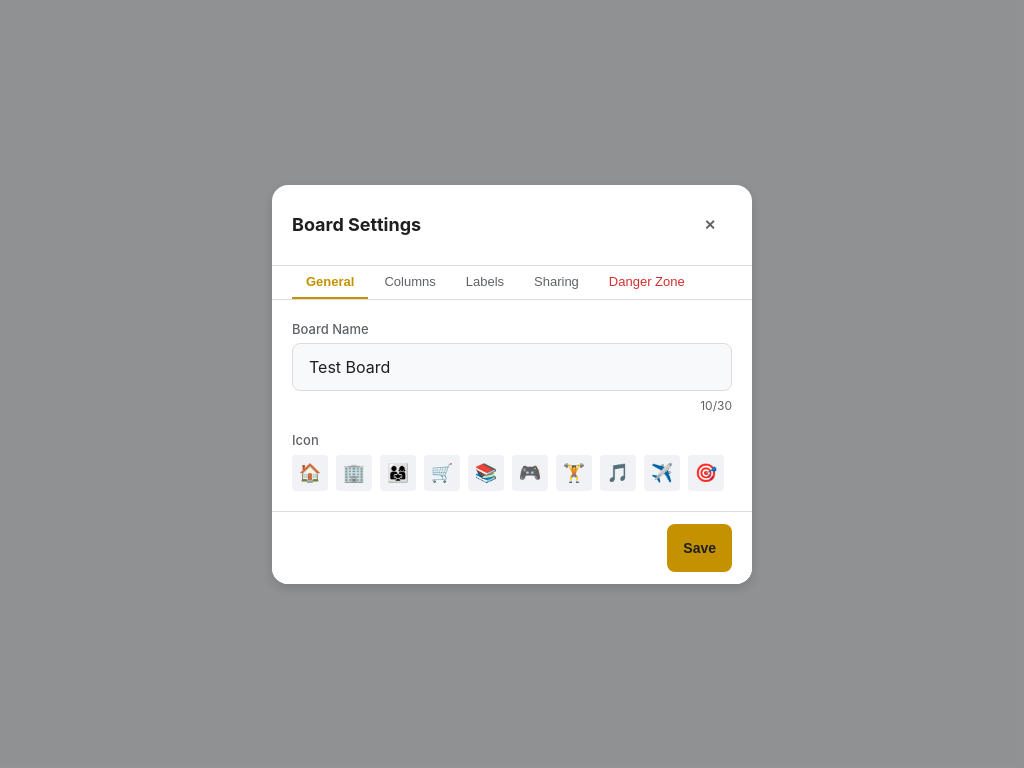
ShareModal sharing behavior (Issue #42, preserved in #138) › AC2: Error handling › shows error for empty email
Click the tab with test id "settings-tab-sharing": (556, 282) left=520, top=266, right=593, bottom=298
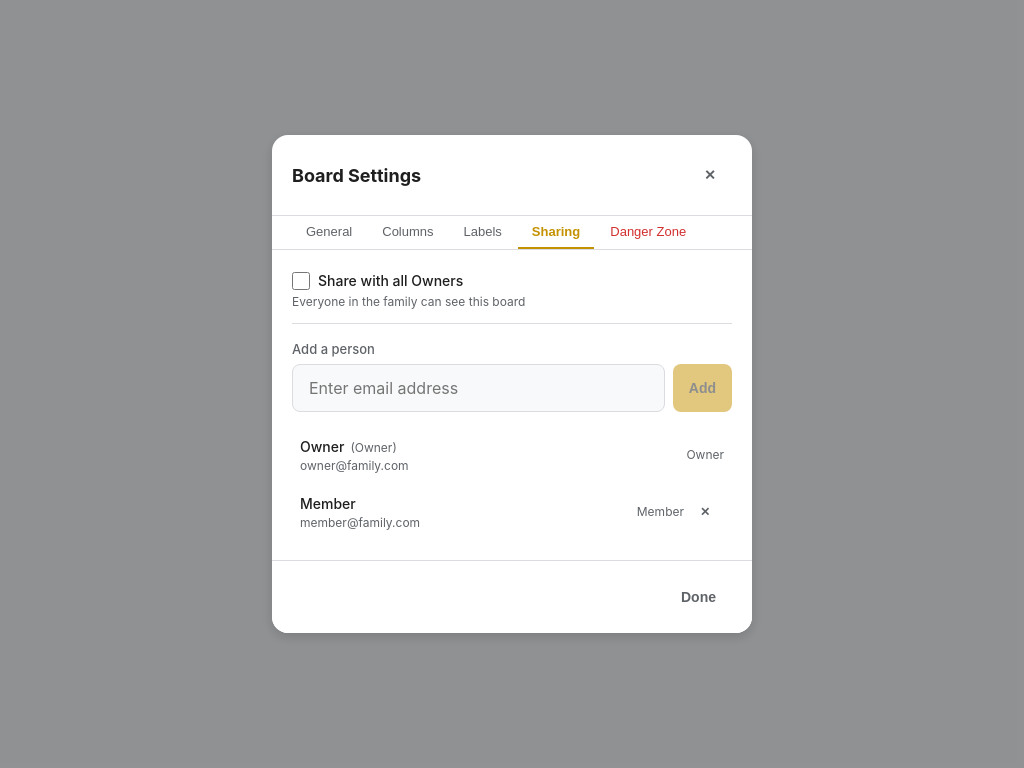
Submit the form, box left=272, top=250, right=752, bottom=633
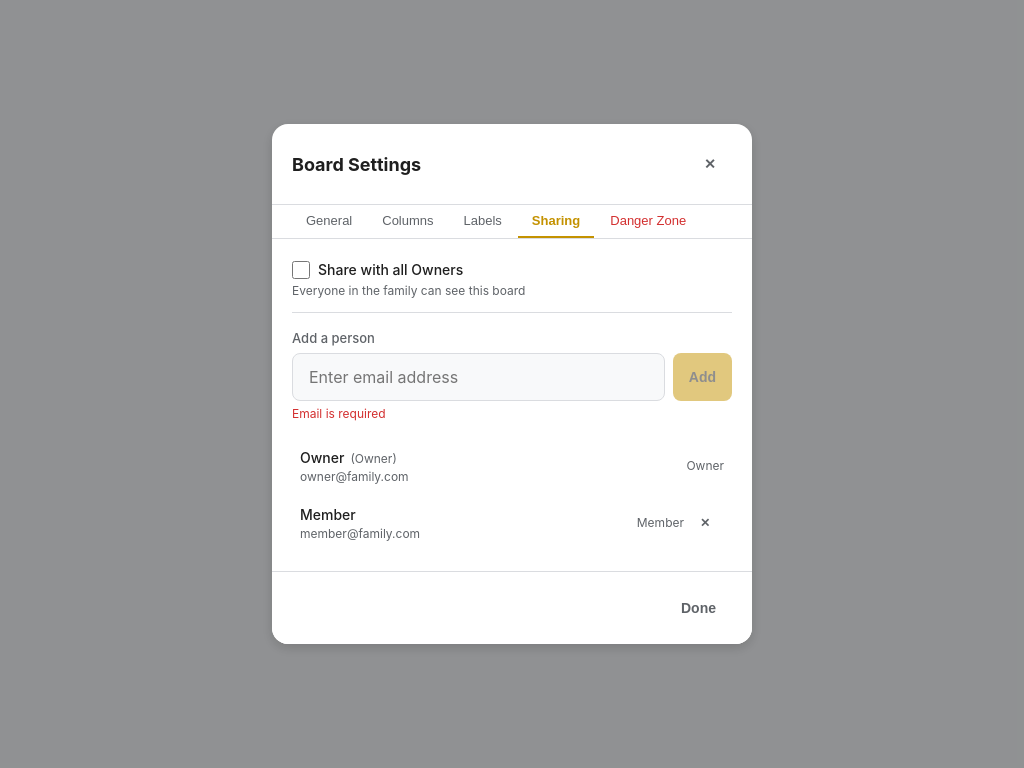
Check: the message "Email is required" is shown, box left=292, top=406, right=386, bottom=421
